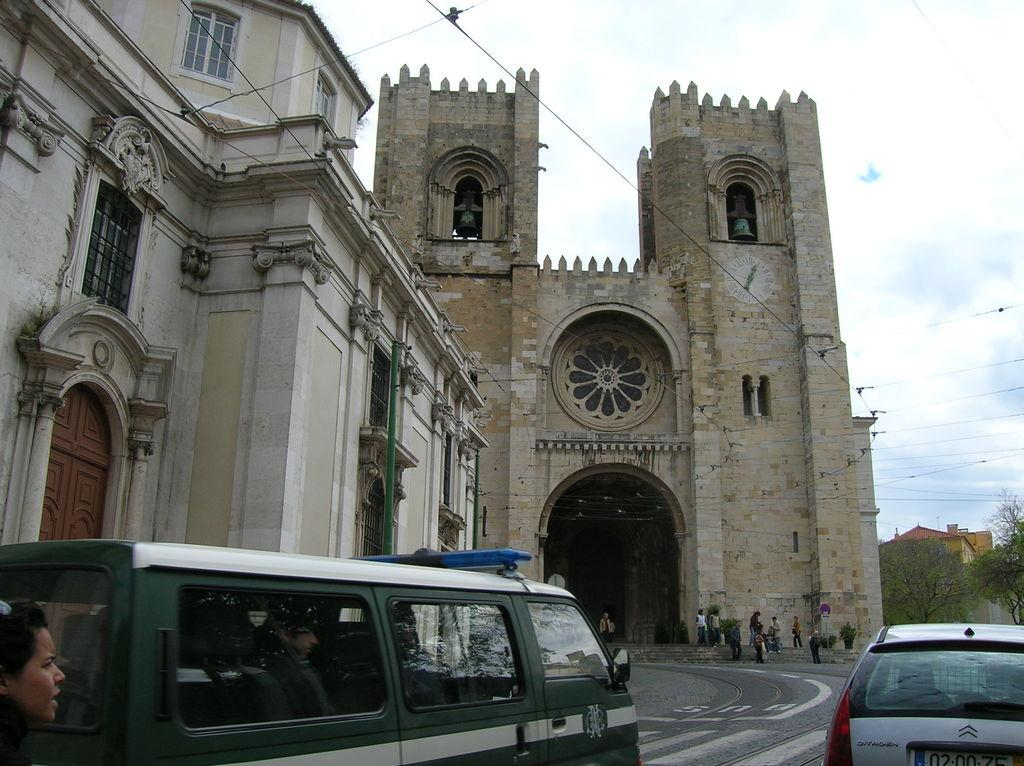vehicle: (1, 539, 642, 766), (823, 624, 1024, 766)
